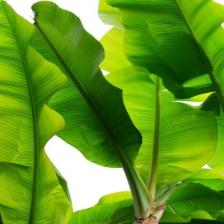green: (1, 0, 224, 224), (106, 0, 224, 99), (157, 90, 217, 197), (106, 66, 156, 183)
